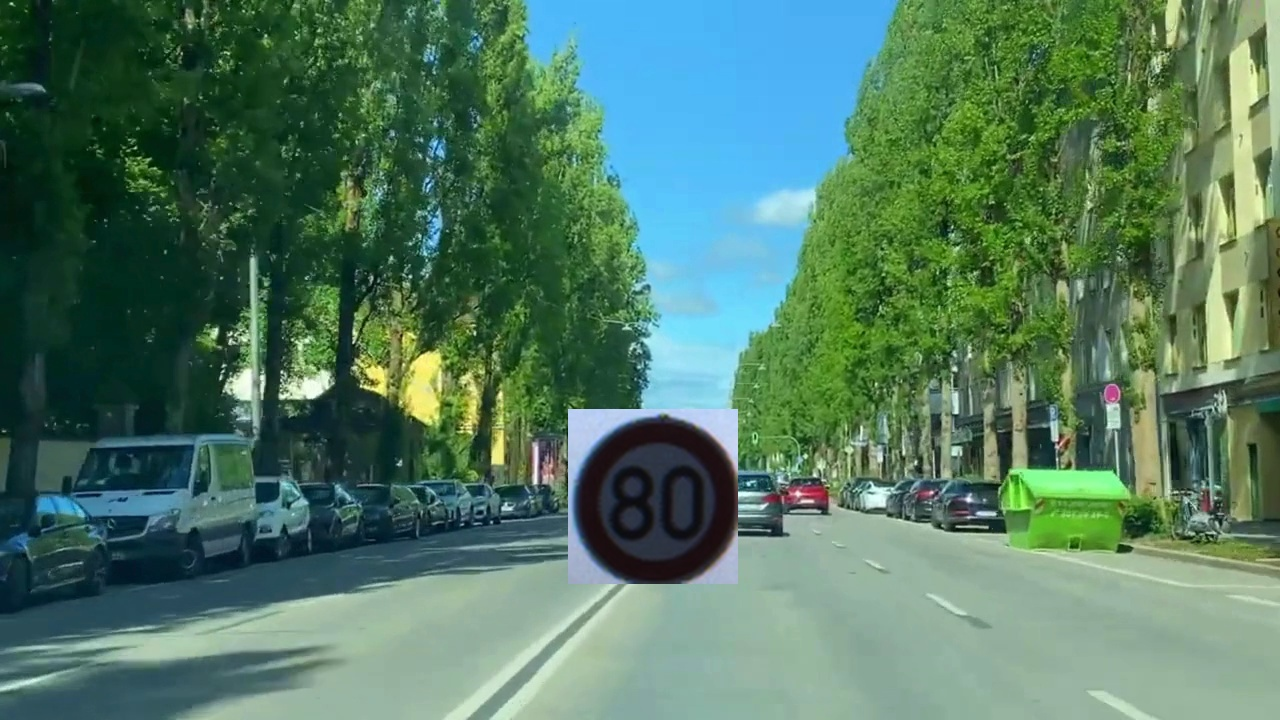Speed 80: (568, 409, 738, 584)
